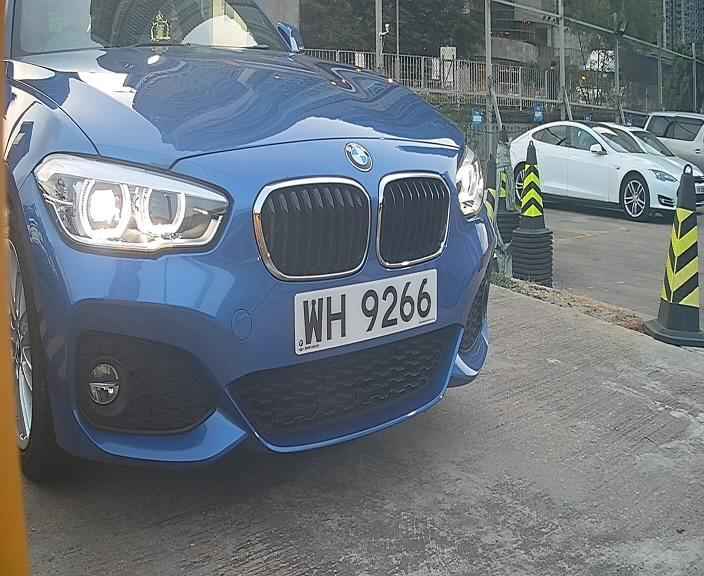License Plate: (287, 260, 437, 361)
